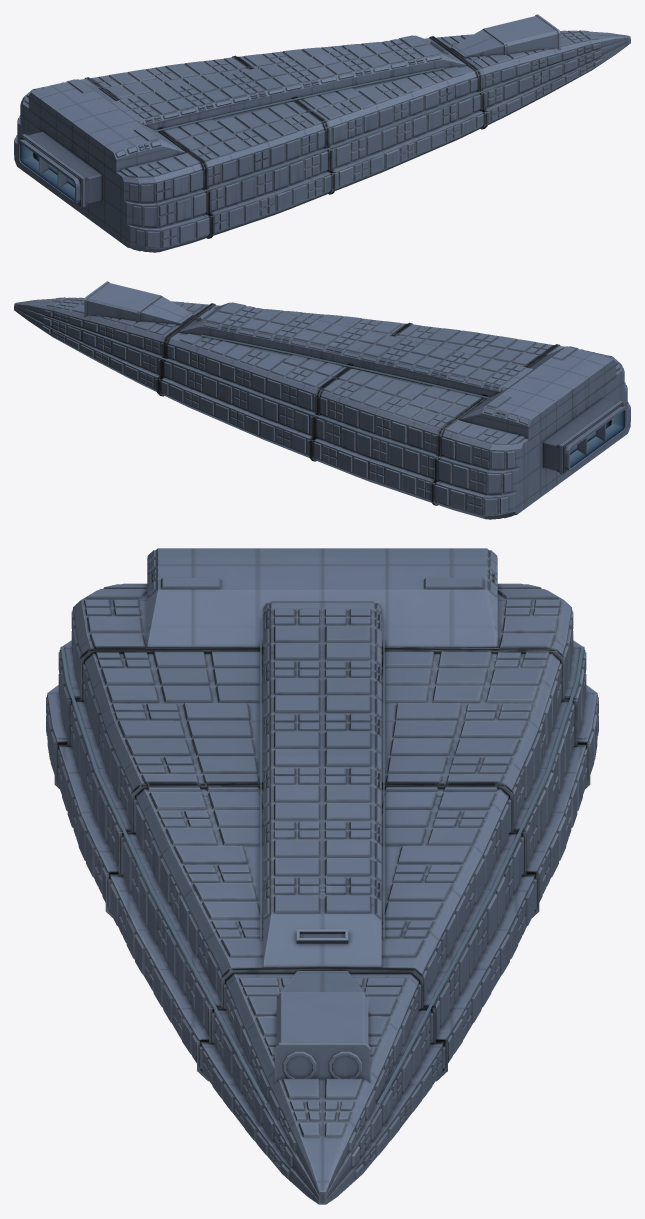
The model's file is hegemony_HB1.gltf.
3 renders of one model, top to bottom at view 1: azimuth 30°, elevation 25°; view 2: azimuth 150°, elevation 25°; view 3: azimuth 270°, elevation 25°, orthographic. The views are drawn at different scales.
Parts seen in each view (by area): view 1: hegemony_HB1; view 2: hegemony_HB1; view 3: hegemony_HB1.
Part boxes in pixels (x1,y1,x2,y2): hegemony_HB1: [14, 14, 630, 252]; hegemony_HB1: [14, 281, 630, 519]; hegemony_HB1: [46, 548, 598, 1204].
Bounding box in the file's own units: 1 × 0.1492 × 0.4109.
Materials: 4 (4 with a texture image).
